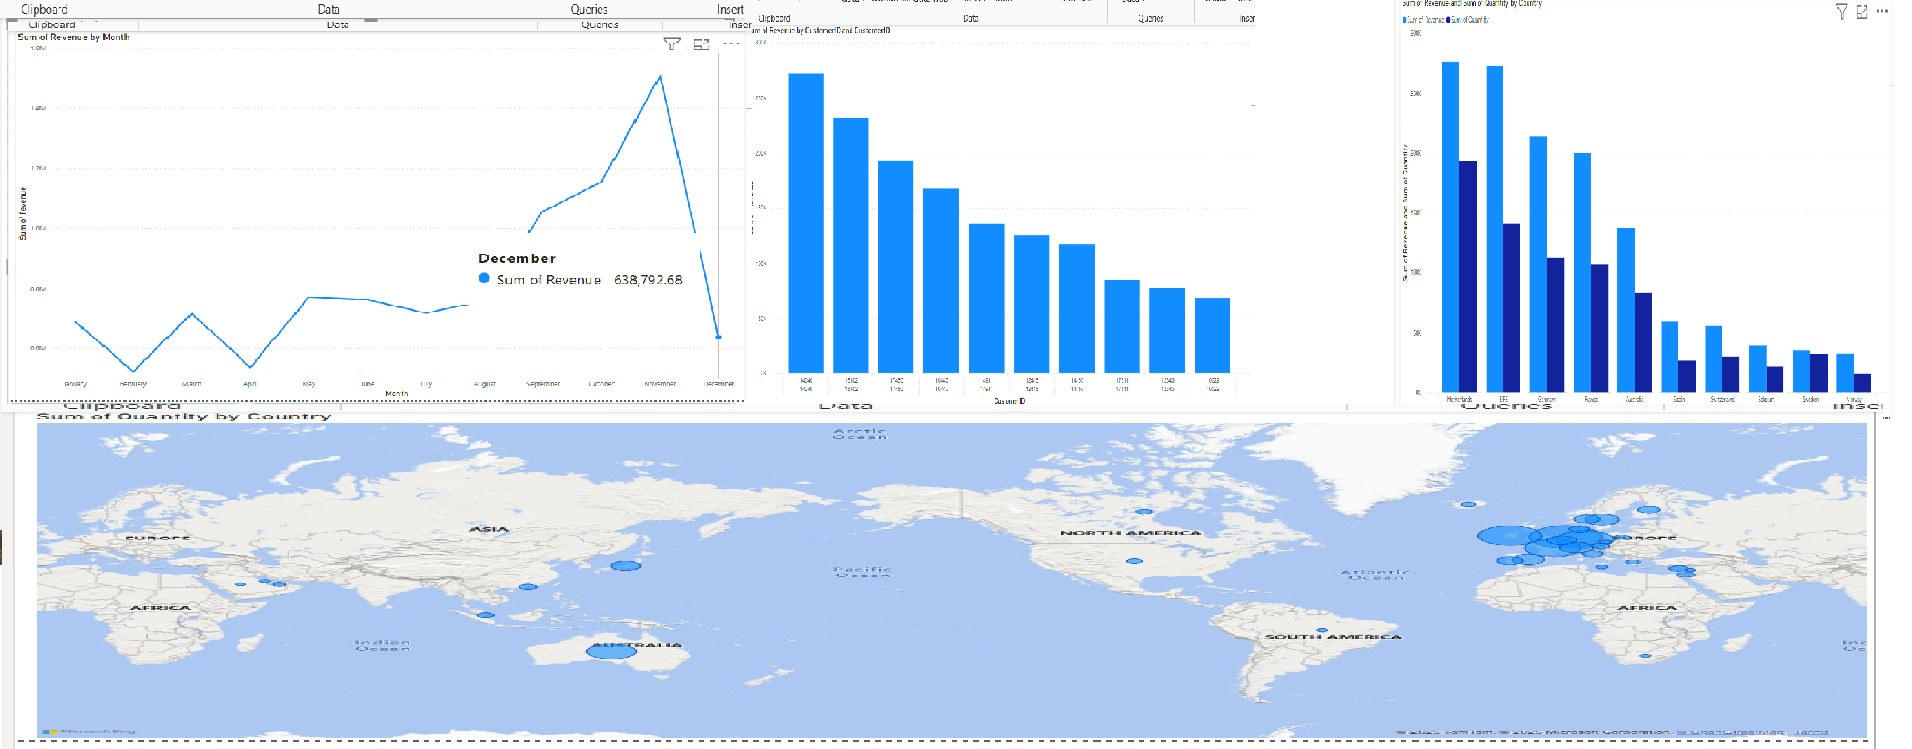

The page's visual inventory and layout, read from the dashboard file:
{"tool":"tableau","page":{"name":"TATA Retail data overview","canvas":[1000,1000],"units":"permille","ordinal":0},"visuals":[{"type":"worksheet","title":"Question 2","mark":"Automatic","cols":["Country"],"box":[7.6,17.9,400.9,482.1]},{"type":"worksheet","title":"Question 4","mark":"Automatic","box":[408.5,17.9,400.9,964.1]},{"type":"worksheet","title":"Question 1","mark":"Automatic","rows":["Calculation_422212515378057216"],"cols":["InvoiceDate"],"box":[809.3,17.9,30.5,964.1]},{"type":"legend","title":"Question 2","param":"[federated.1ueksi71lke9y812quzom1l8i7dn].[:Measure Names]","box":[839.8,17.9,152.5,152.5]},{"type":"legend","title":"Question 4","param":"[federated.1ueksi71lke9y812quzom1l8i7dn].[sum:Quantity:qk]","box":[839.8,170.4,152.5,152.5]},{"type":"worksheet","title":"Question 3","mark":"Automatic","rows":["Calculation_422212515378057216"],"cols":["CustomerID"],"box":[7.6,500,400.9,482.1]}]}

Visuals, with their boxes on the dashboard's canvas, which has no fixed pixel size, in thousandths of its width and height (x1, y1, x2, y2). These are canvas units, not pixel positions in the 1912x749 screenshot, which may show the page scaled, cropped or inside an application window:
"Question 2" worksheet: x1=8, y1=18, x2=408, y2=500
"Question 4" worksheet: x1=408, y1=18, x2=809, y2=982
"Question 1" worksheet: x1=809, y1=18, x2=840, y2=982
"Question 2" legend: x1=840, y1=18, x2=992, y2=170
"Question 4" legend: x1=840, y1=170, x2=992, y2=323
"Question 3" worksheet: x1=8, y1=500, x2=408, y2=982
